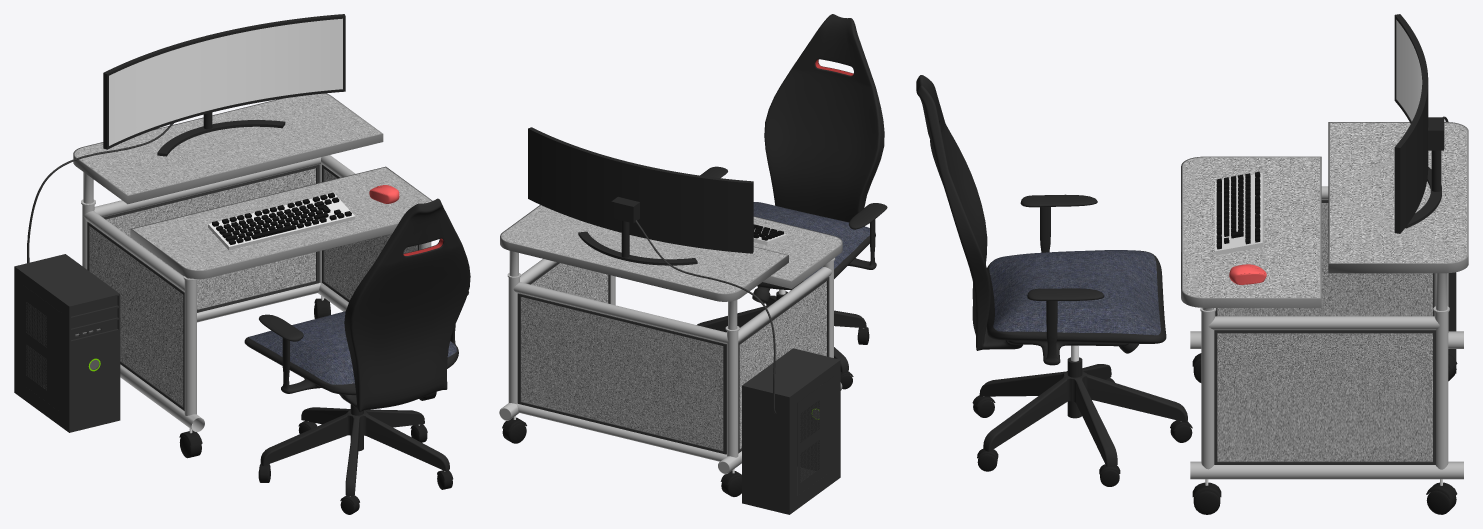
The model's file is setup_optimized.glb.
3 views of the same model, side by side, from view 1: azimuth 30°, elevation 25°; view 2: azimuth 150°, elevation 25°; view 3: azimuth 270°, elevation 25° (orthographic). The views are drawn at different scales.
Visible parts, largest first — view 1: Desk1_Masa_Ana_0, Koltuk_Chair_Plastic_0, Panel_Side_Main_0, Monitor_wallpaperScreen_0, Case_PC_kasa_0, Desk1_Table_Pipe_0, Desk1_blinn2_0, Koltuk_Ayak_Chair_Ayak_0, Monitor_Monitor_Frame_0, Koltuk_Chair_Fabric_0, Keyboard_Keyboard_Keys_0, Panel_Side_Frame_0 (+4 smaller); view 2: Panel_Side_Main_0, Koltuk_Chair_Plastic_0, Monitor_Monitor_Frame_0, Case_PC_kasa_0, Desk1_Masa_Ana_0, Desk1_Table_Pipe_0, Desk1_blinn2_0, Panel_Side_Frame_0, Desk1_lambert2_0, Koltuk_Chair_Fabric_0, Koltuk_Ayak_Chair_Ayak_0, Wheel4_Teker_0 (+1 smaller); view 3: Panel_Side_Main_0, Desk1_Masa_Ana_0, Koltuk_Chair_Plastic_0, Desk1_Table_Pipe_0, Koltuk_Chair_Fabric_0, Koltuk_Ayak_Chair_Ayak_0, Monitor_Monitor_Frame_0, Desk1_blinn2_0, Wheel4_Teker_0, Panel_Side_Frame_0, Keyboard_Keyboard_Keys_0, Monitor_wallpaperScreen_0 (+2 smaller).
Part boxes in pixels (x1,y1,x2,y2): Desk1_Masa_Ana_0: (75, 93, 431, 270); Koltuk_Chair_Plastic_0: (244, 198, 470, 412); Panel_Side_Main_0: (89, 168, 417, 406); Monitor_wallpaperScreen_0: (109, 18, 342, 145); Case_PC_kasa_0: (14, 254, 120, 432); Desk1_Table_Pipe_0: (81, 155, 431, 431); Desk1_blinn2_0: (73, 93, 432, 279); Koltuk_Ayak_Chair_Ayak_0: (260, 404, 449, 495); Monitor_Monitor_Frame_0: (103, 14, 345, 156); Koltuk_Chair_Fabric_0: (248, 311, 456, 384); Keyboard_Keyboard_Keys_0: (212, 192, 351, 244); Panel_Side_Frame_0: (87, 164, 419, 410); Panel_Side_Main_0: (521, 263, 826, 450); Koltuk_Chair_Plastic_0: (700, 14, 887, 303); Monitor_Monitor_Frame_0: (528, 127, 753, 265); Case_PC_kasa_0: (742, 348, 840, 514); Desk1_Masa_Ana_0: (501, 205, 840, 293); Desk1_Table_Pipe_0: (499, 251, 842, 474); Desk1_blinn2_0: (500, 205, 842, 301); Panel_Side_Frame_0: (517, 262, 829, 454); Desk1_lambert2_0: (513, 282, 728, 343); Koltuk_Chair_Fabric_0: (753, 202, 869, 280); Koltuk_Ayak_Chair_Ayak_0: (697, 291, 866, 372); Wheel4_Teker_0: (502, 327, 869, 496); Panel_Side_Main_0: (1217, 203, 1432, 461); Desk1_Masa_Ana_0: (1183, 122, 1466, 297); Koltuk_Chair_Plastic_0: (916, 75, 1166, 365); Desk1_Table_Pipe_0: (1190, 186, 1463, 479); Koltuk_Chair_Fabric_0: (989, 250, 1160, 335); Koltuk_Ayak_Chair_Ayak_0: (979, 345, 1187, 466); Monitor_Monitor_Frame_0: (1394, 14, 1444, 233); Desk1_blinn2_0: (1181, 122, 1468, 307); Wheel4_Teker_0: (972, 353, 1457, 514); Panel_Side_Frame_0: (1214, 200, 1435, 464); Keyboard_Keyboard_Keys_0: (1216, 171, 1260, 249); Monitor_wallpaperScreen_0: (1396, 20, 1422, 121).
Size of the model in its own units: 27.51 by 27.1 by 37.01.
Materials: 22 (3 with a texture image).
